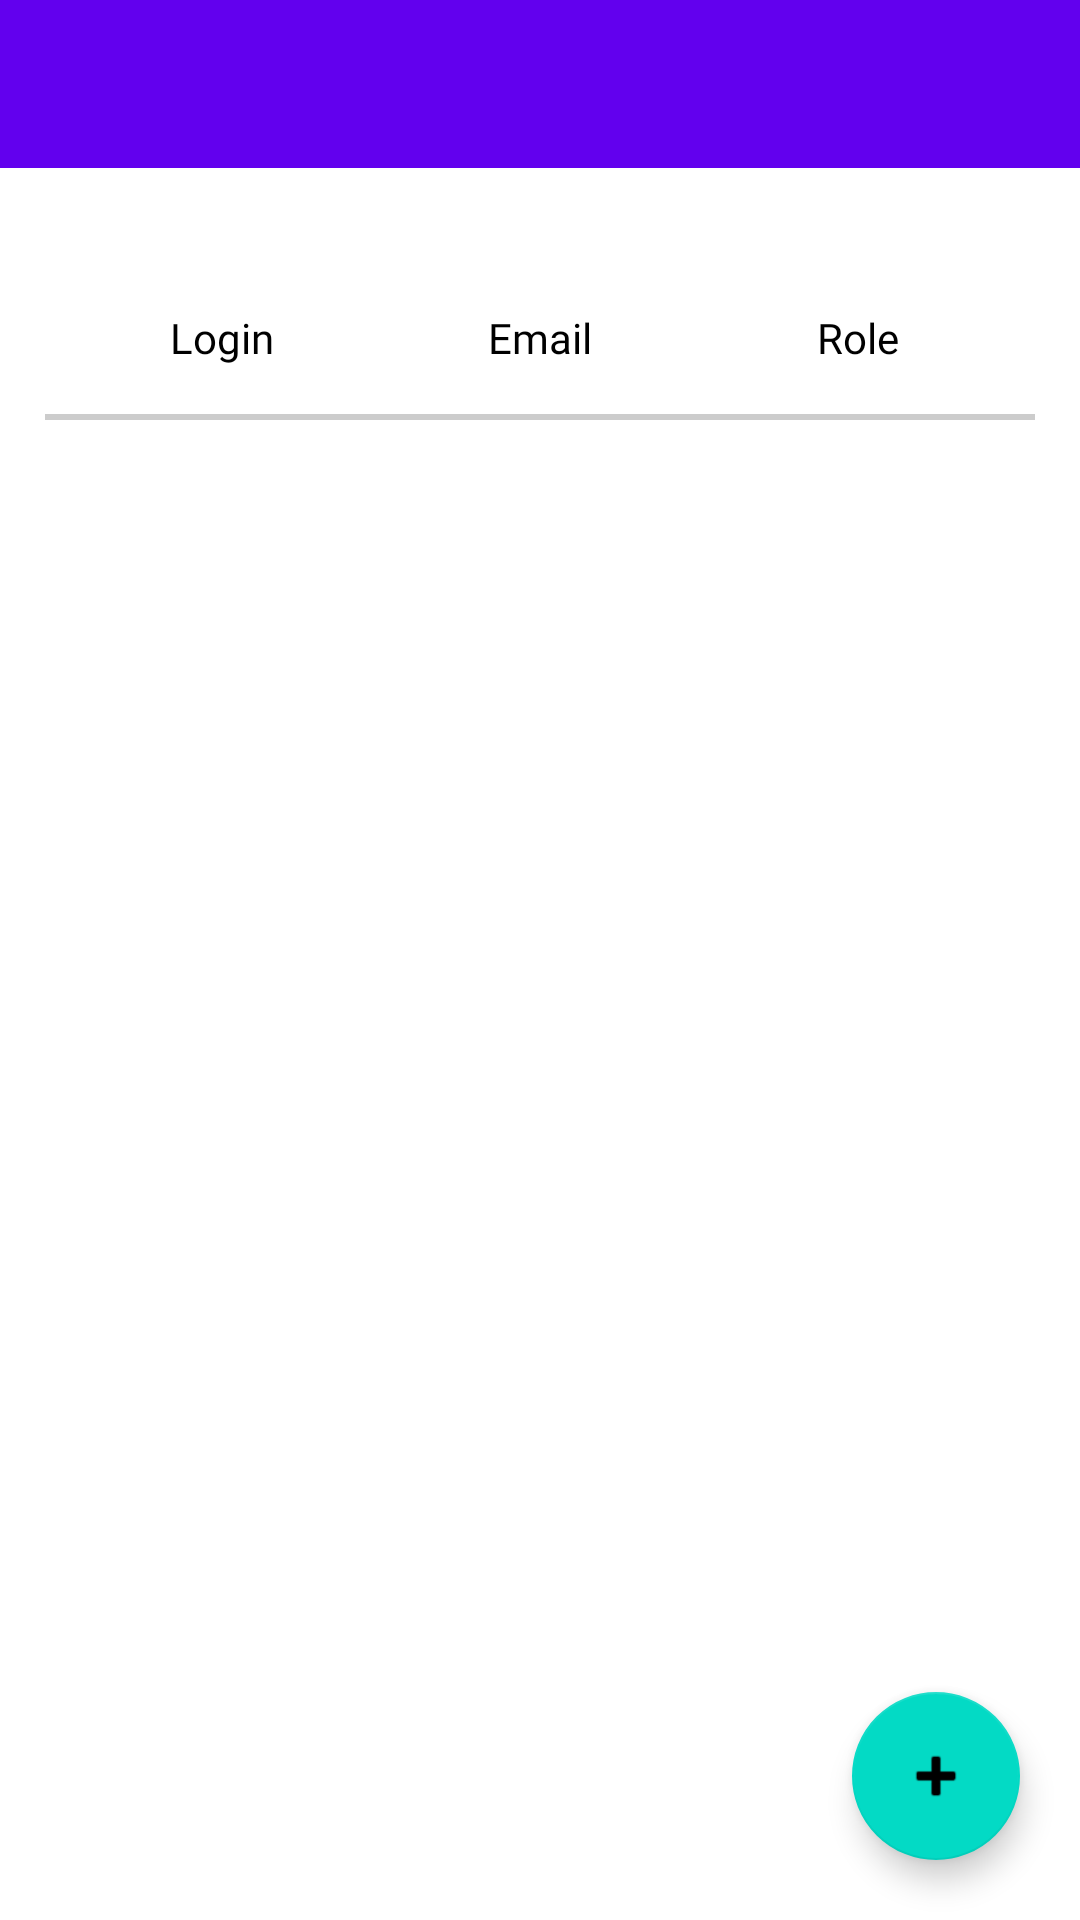

Icon click points for this 1080w x 1920h phone screenshot, format [x,y]:
Добавить: [936,1776]
